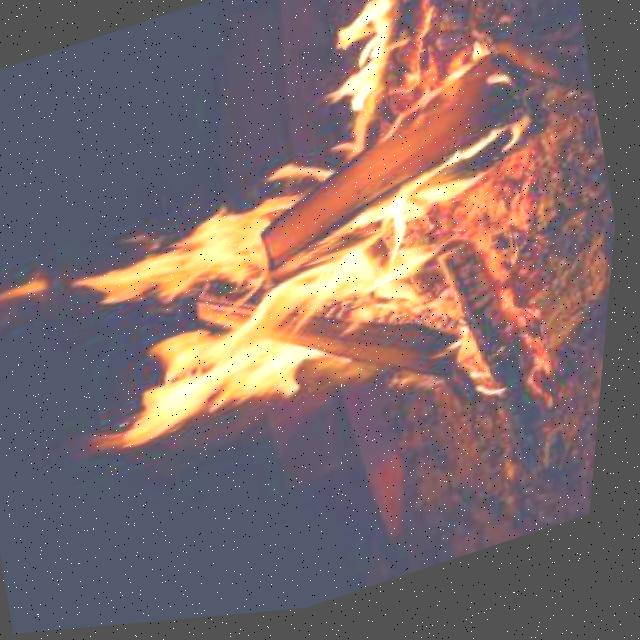Fire: (0, 0, 580, 499)
